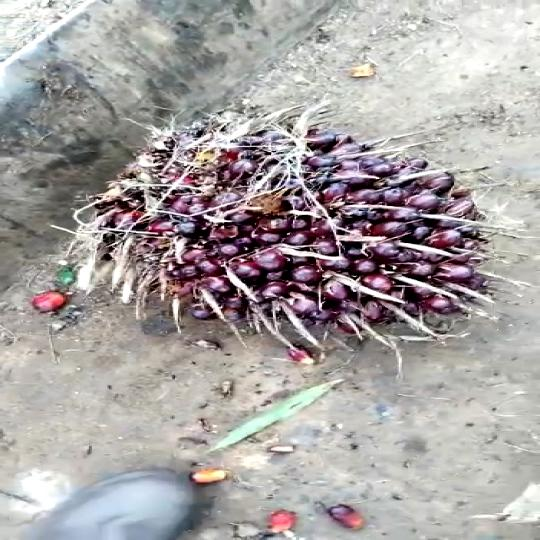kurang masak: (43, 87, 540, 378)
